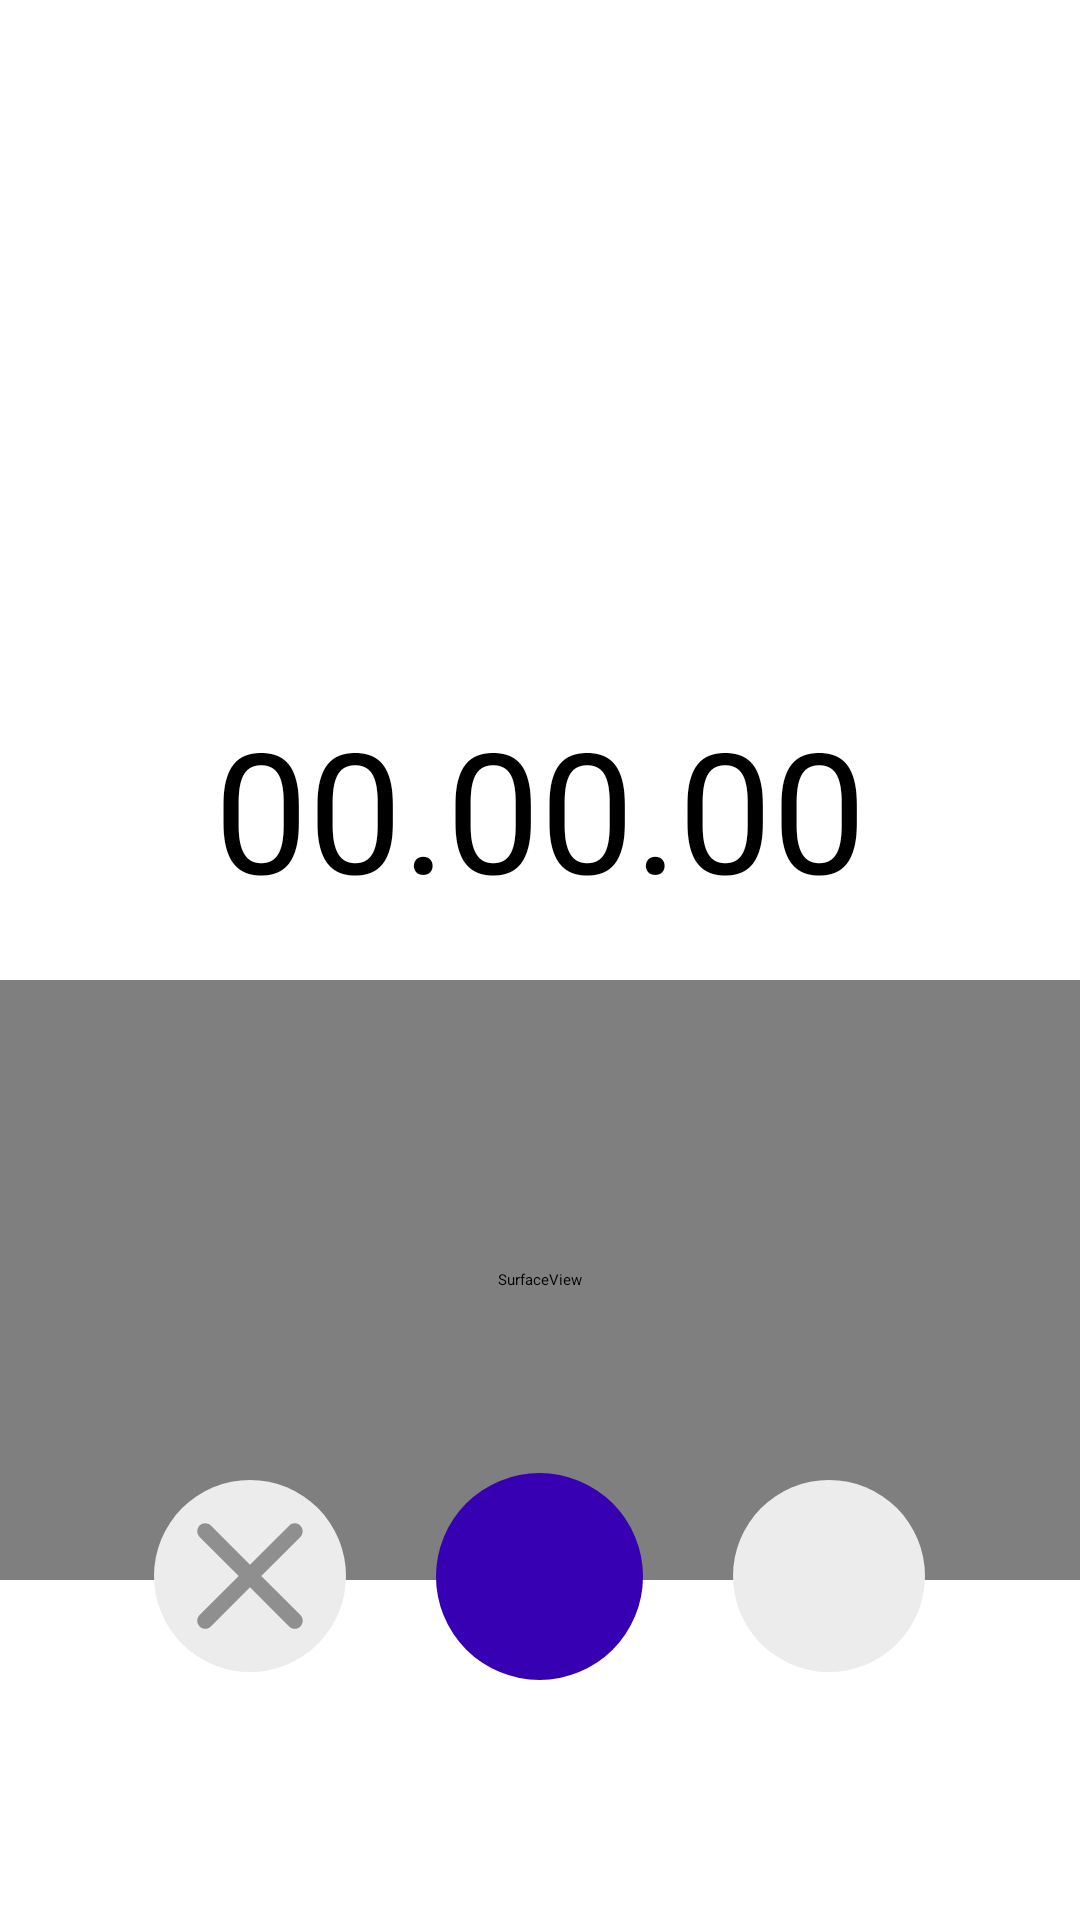

Where to tap for icons on this 1080*1920 app screen, as [x,y]:
Audio Delete Button: [250,1576]
